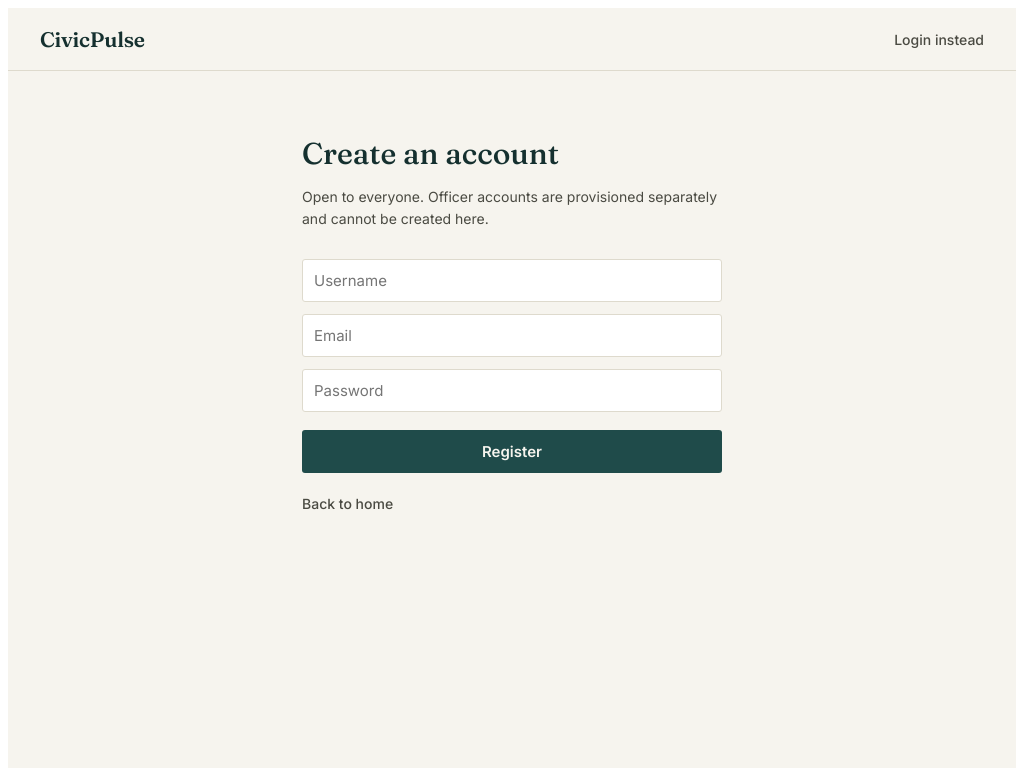
Test: RegisterPage › shows an error message and does NOT navigate when registration fails
In the field with placeholder "Username": (512, 280) x1=302 y1=259 x2=722 y2=302, type "citizen1"
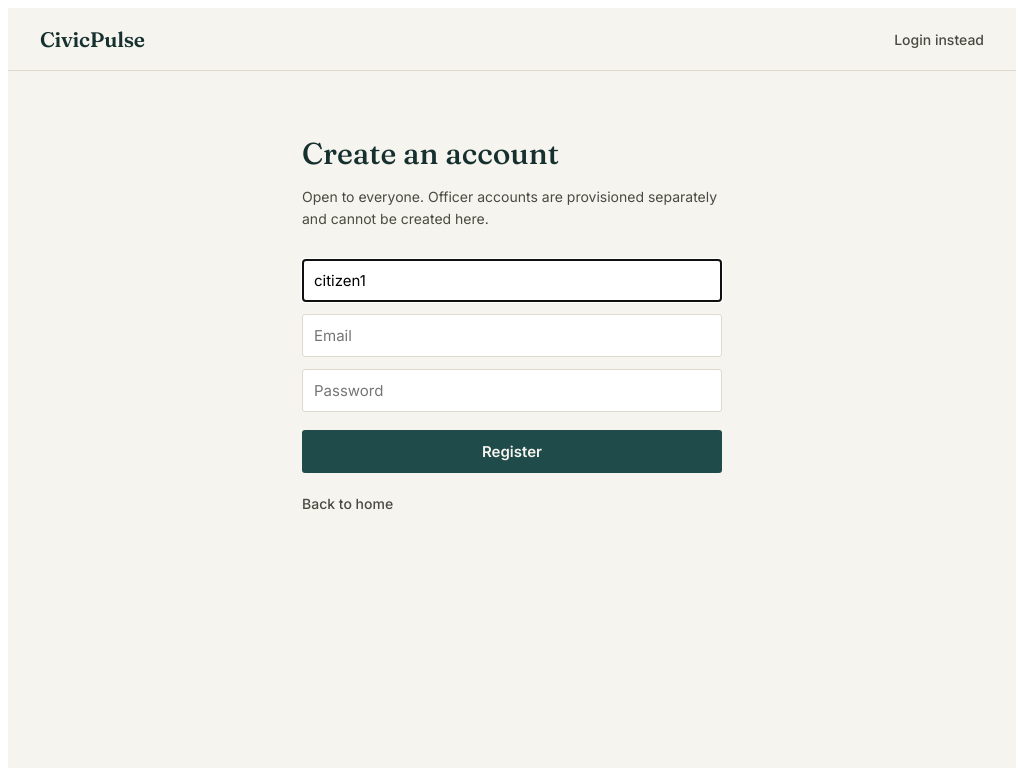
In the field with placeholder "Email": (512, 335) x1=302 y1=314 x2=722 y2=357, type "c1@test.com"
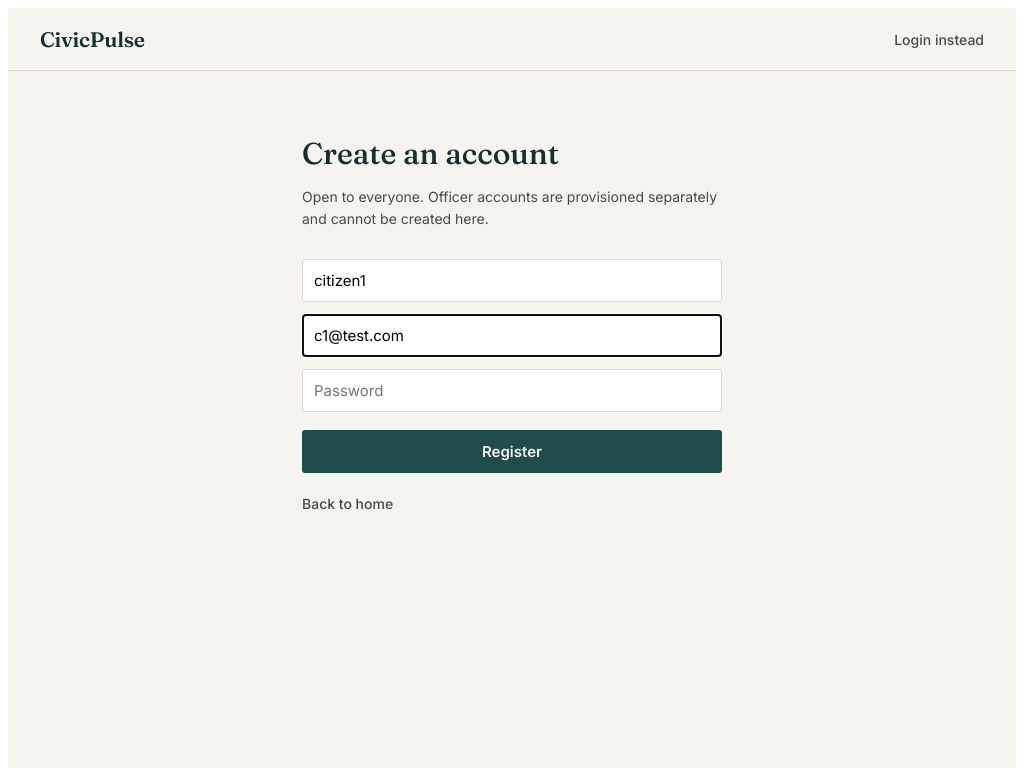
In the password field with placeholder "Password": (512, 390) x1=302 y1=369 x2=722 y2=412, type "testpass123"
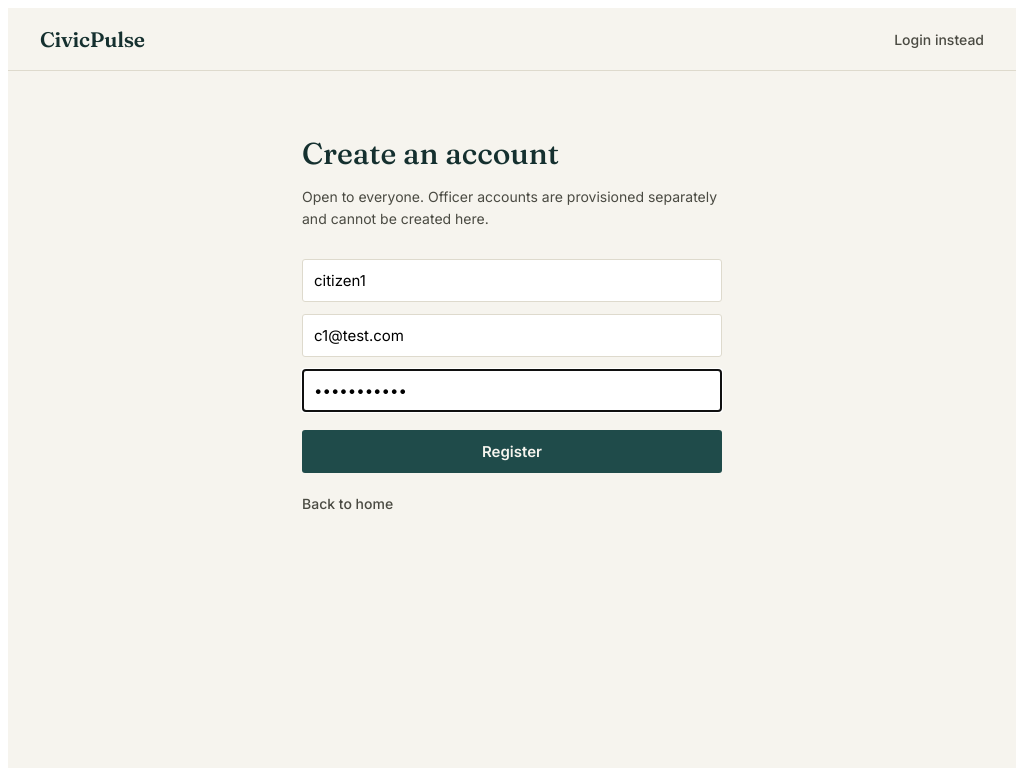
Click the button "Register": (512, 451) x1=302 y1=430 x2=722 y2=473
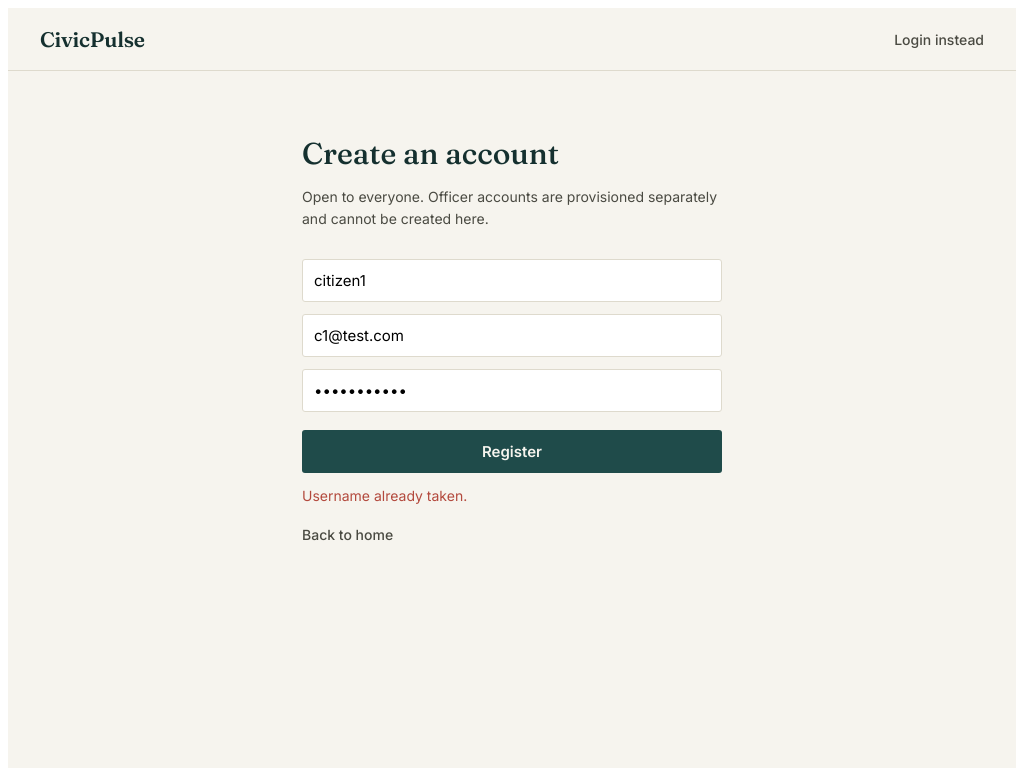
Expected: the text "Username already taken." is shown, x1=302 y1=487 x2=467 y2=504
